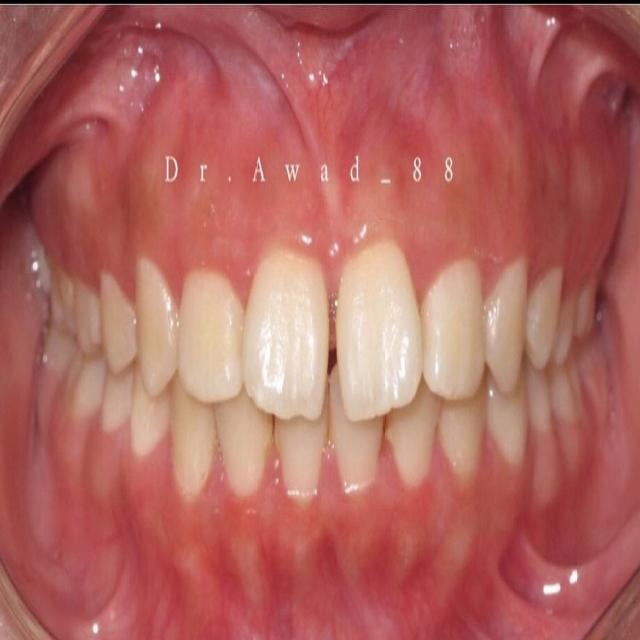tooth: (238, 245, 334, 423), (340, 257, 420, 413), (176, 262, 247, 408), (428, 268, 488, 404), (129, 258, 182, 396), (488, 270, 528, 398), (334, 410, 391, 494), (221, 416, 275, 499), (278, 419, 326, 506), (444, 406, 486, 488), (100, 273, 136, 365), (393, 406, 433, 484), (529, 269, 560, 369), (492, 403, 532, 468), (178, 402, 209, 472), (74, 281, 98, 345), (129, 396, 164, 439)
